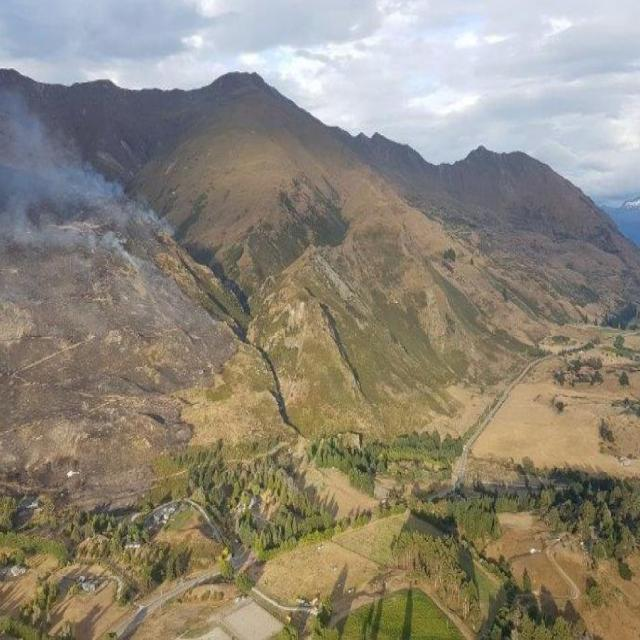Smoke: (3, 84, 146, 243)
